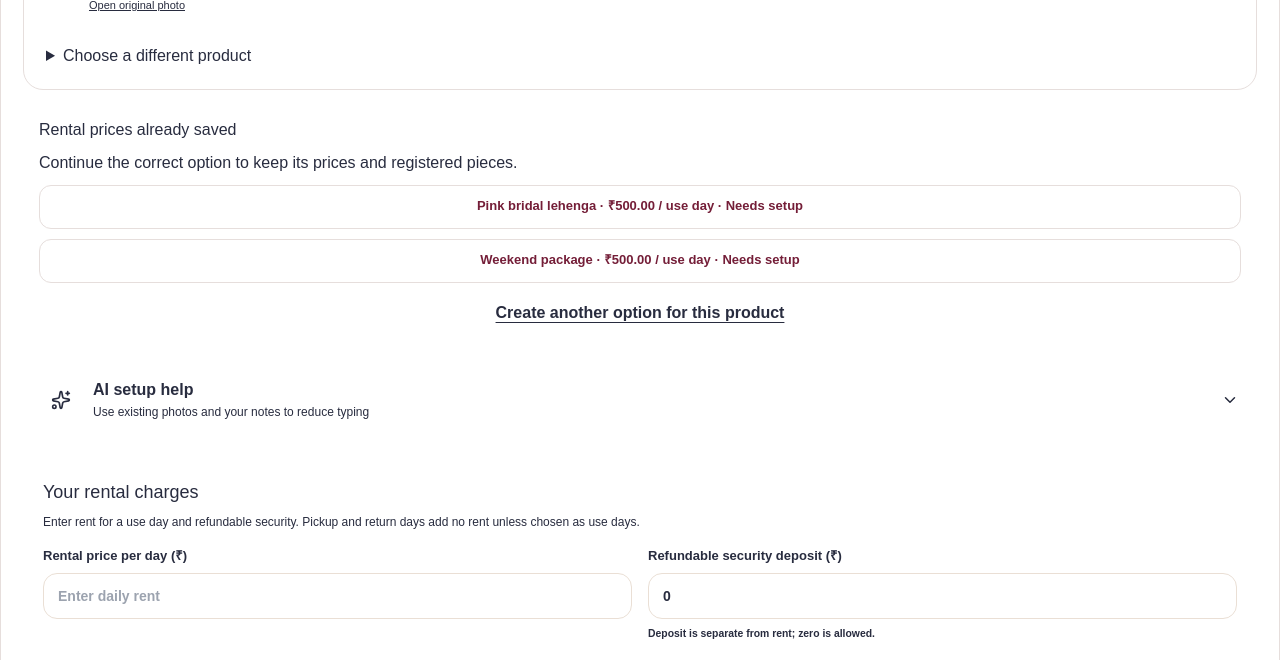
multiple saved options require a deliberate choice instead of inventing another offer
This screenshot has width=1280, height=660.
(page scrolled)
Check: the heading "Rental prices already saved" is shown, box [39, 121, 236, 138]
Click the button "Create another option for this product".
click(640, 312)  # box [39, 293, 1241, 332]
(page scrolled)
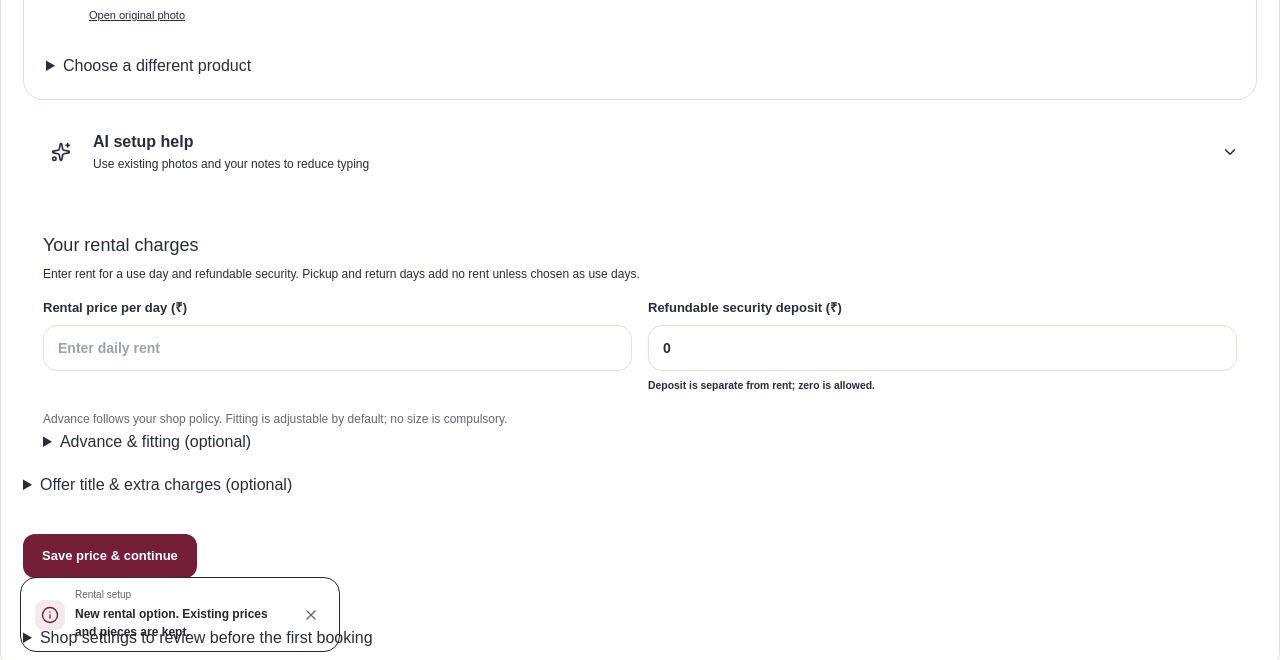
Check: the button "Save price & continue" is enabled, box [23, 534, 197, 578]
